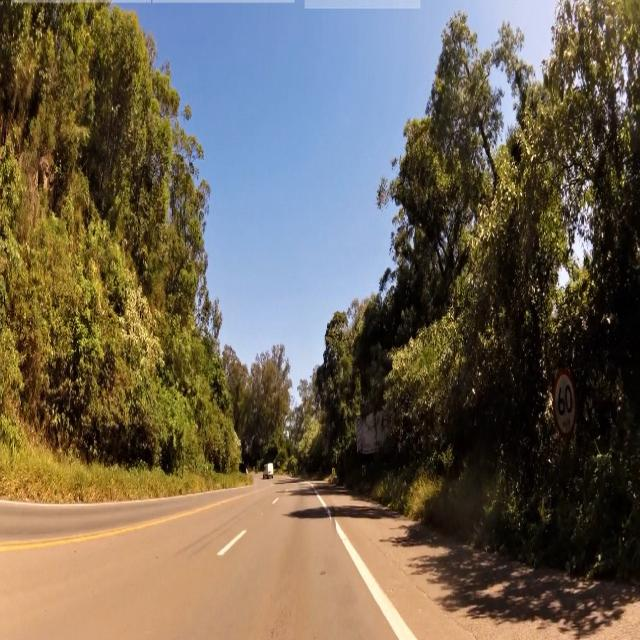R-19: (552, 370, 580, 441)
